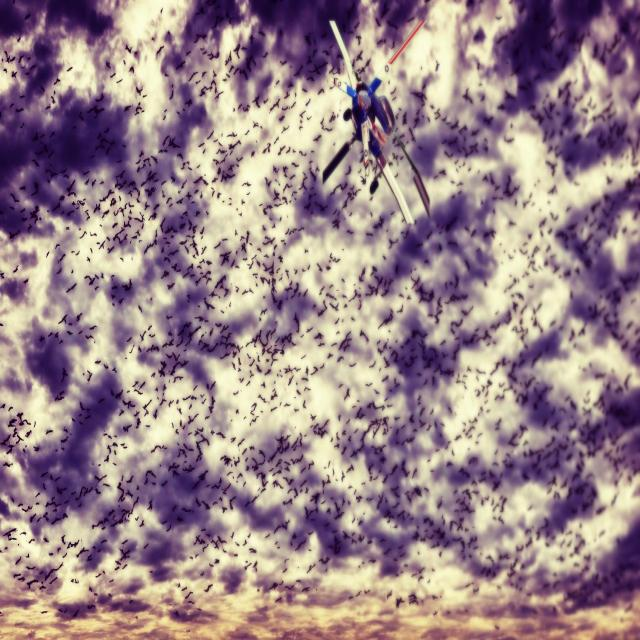airplane: (321, 17, 431, 226)
